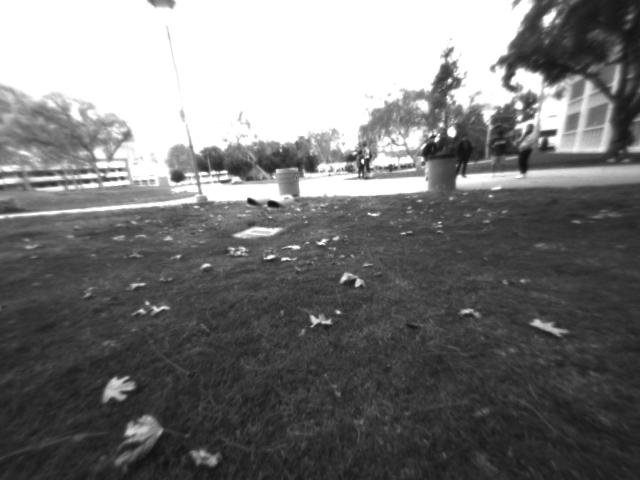trashcan: (426, 154, 457, 202), (274, 166, 307, 202)
